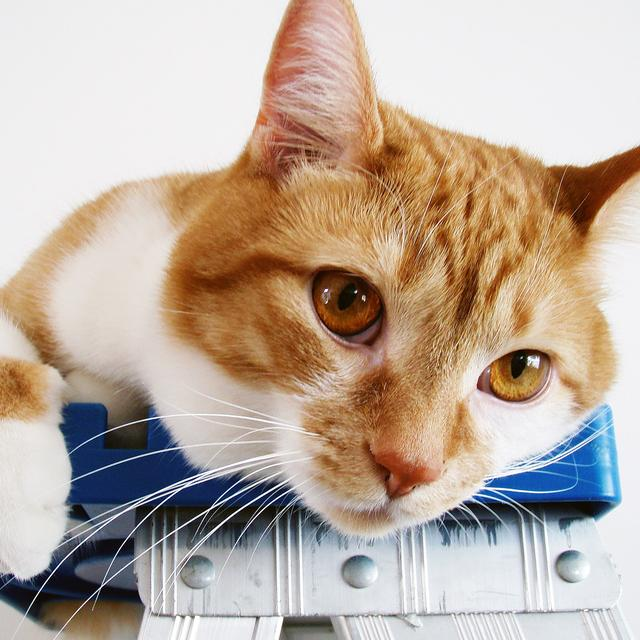animals: (252, 0, 640, 492)
